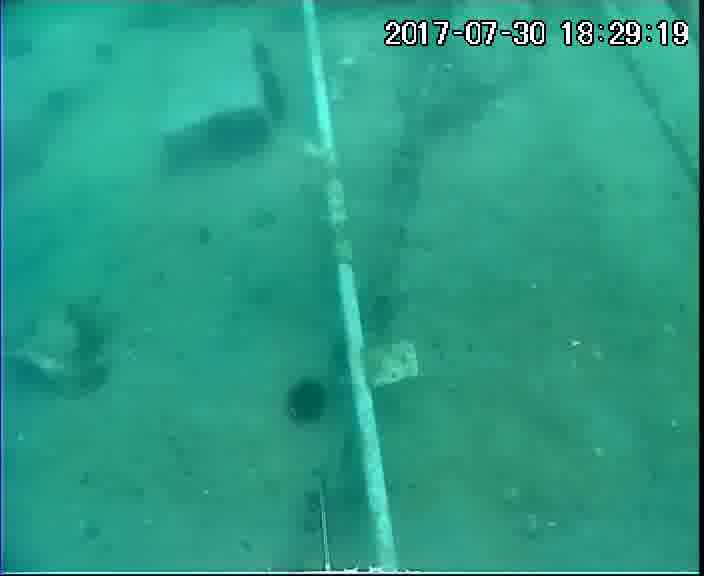echinus: (282, 377, 332, 429), (78, 359, 113, 395), (76, 325, 110, 359), (1, 32, 36, 65), (246, 41, 275, 67), (44, 90, 70, 116), (259, 72, 285, 98), (92, 42, 119, 66), (267, 93, 290, 121)
